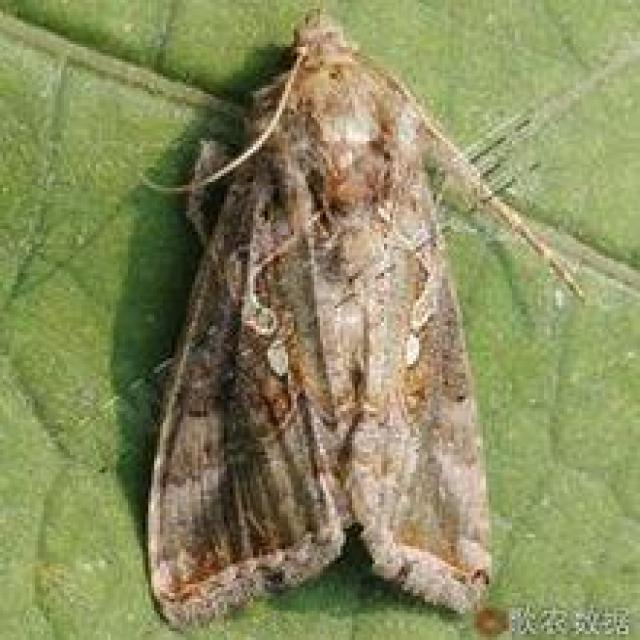armyworm: (150, 1, 509, 640)
